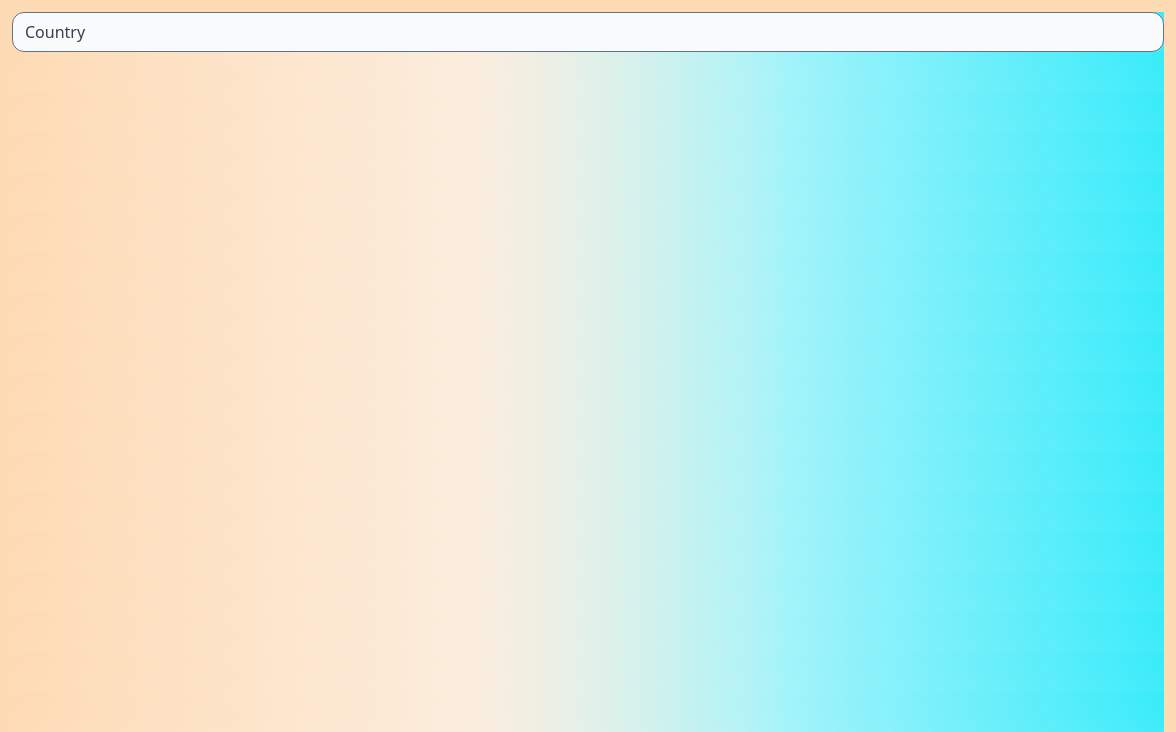
Combobox › filters options and selects a value
The width and height of the screenshot is (1176, 732).
Type "ger" into the dropdown at (588, 32), box top-left (12, 12), bottom-right (1164, 52)
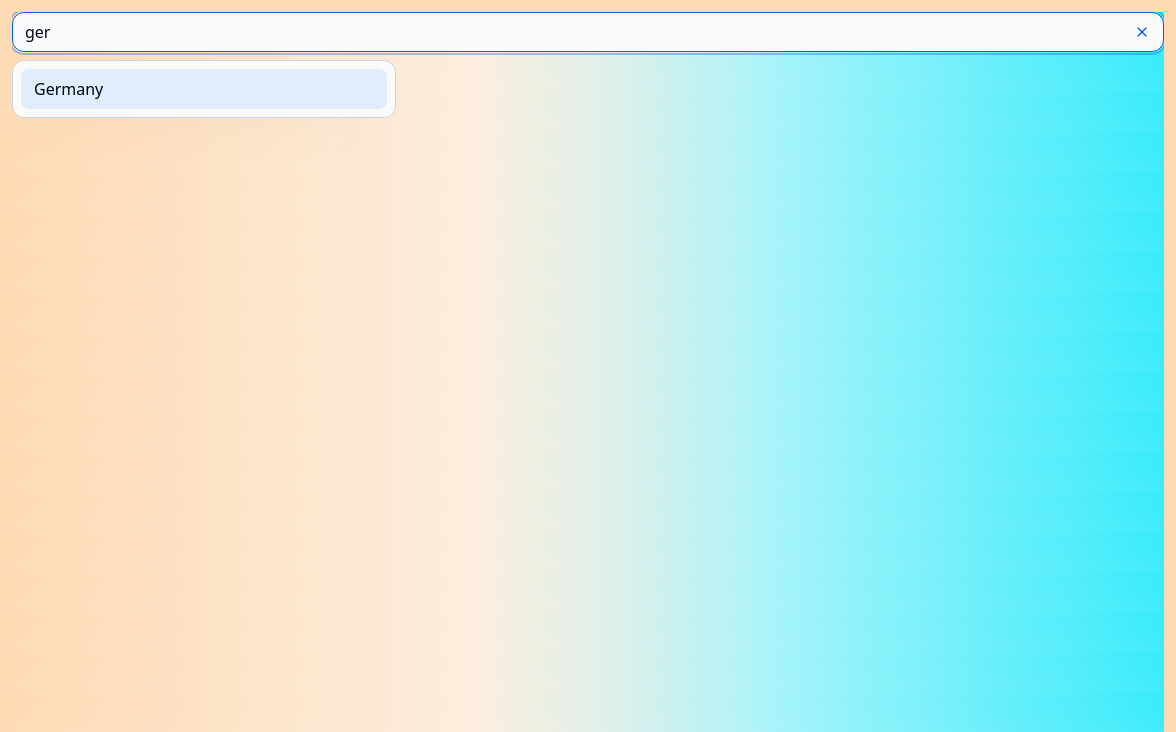
Click the option "Germany" at (69, 89), box top-left (21, 69), bottom-right (387, 109)
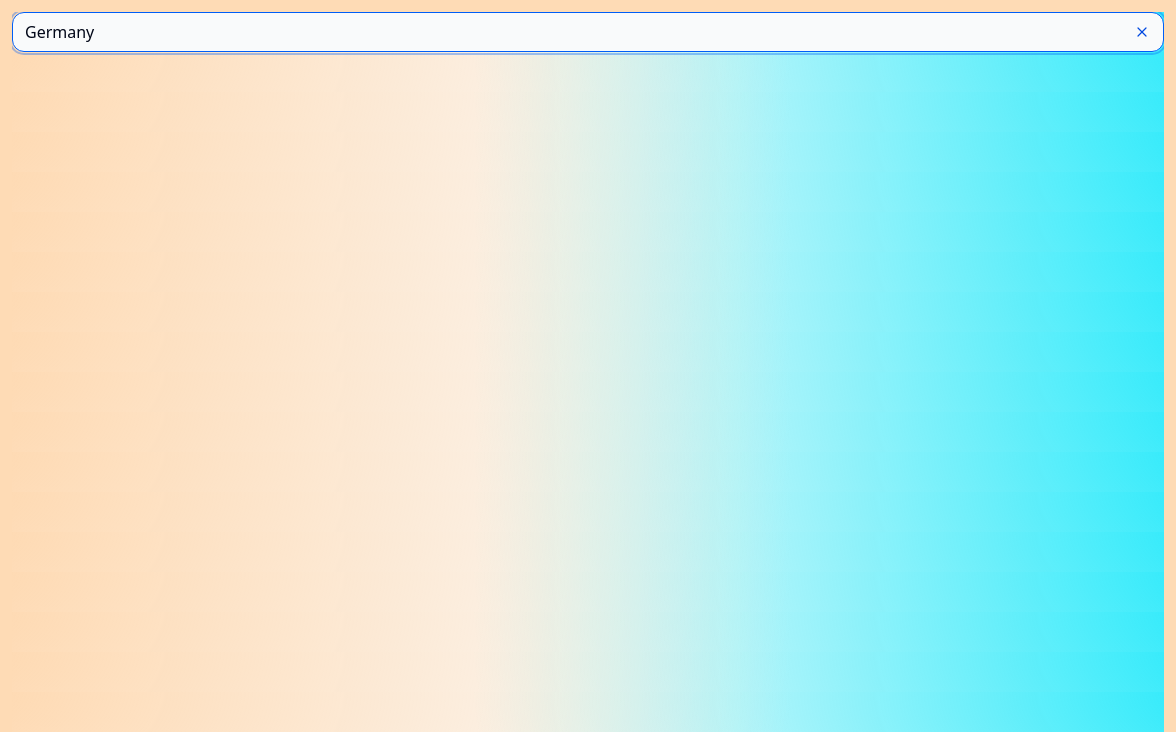
Now the dropdown holds "Germany", box top-left (12, 12), bottom-right (1164, 52)
